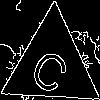C: (26, 39, 77, 98)
